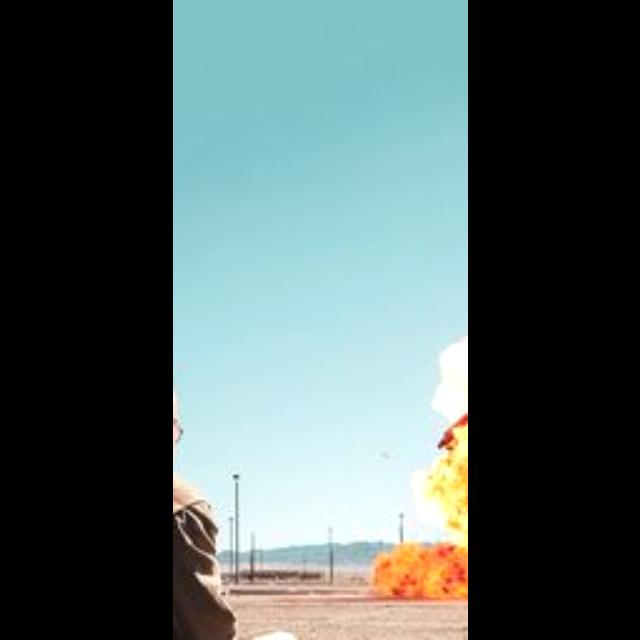fire: (371, 335, 467, 599)
